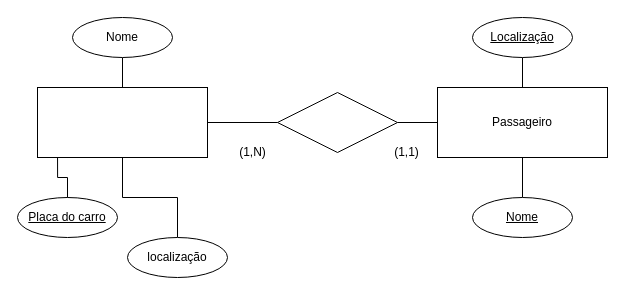
This 625x295 diagram has some shape labels left out. The centre of each missing label's shape, as x and y in pixels:
"Conduz" belongs at point (337, 122).
"Uber" belongs at point (122, 122).
